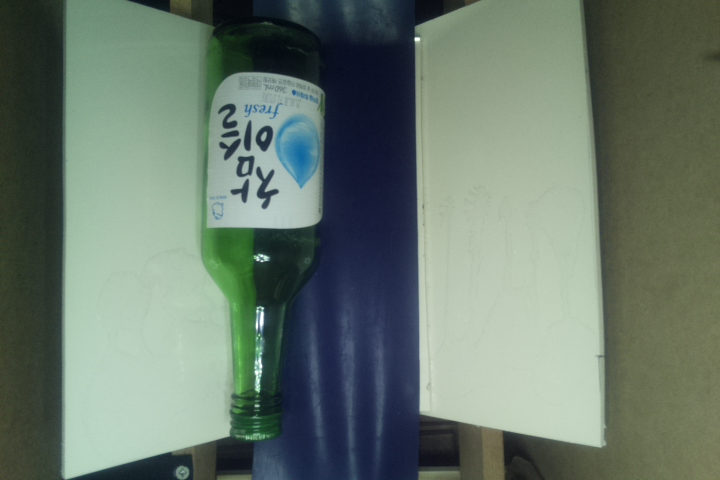soju: (198, 17, 326, 440)
